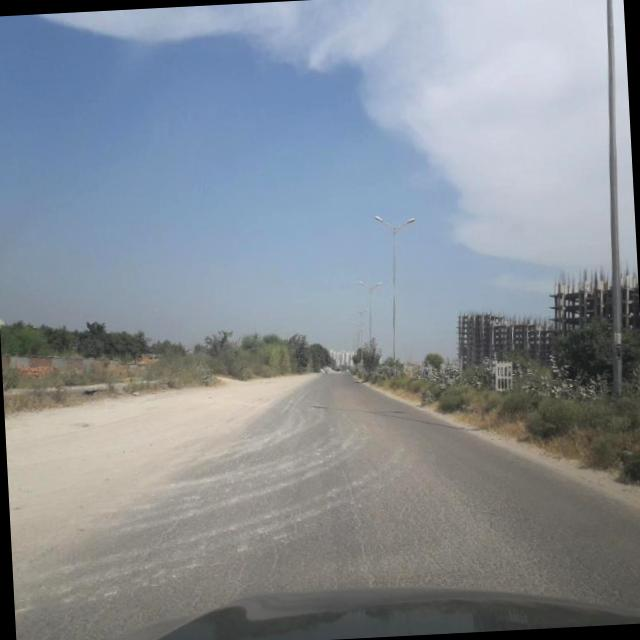crack: (120, 431, 628, 622)
pothole: (332, 446, 380, 582)
